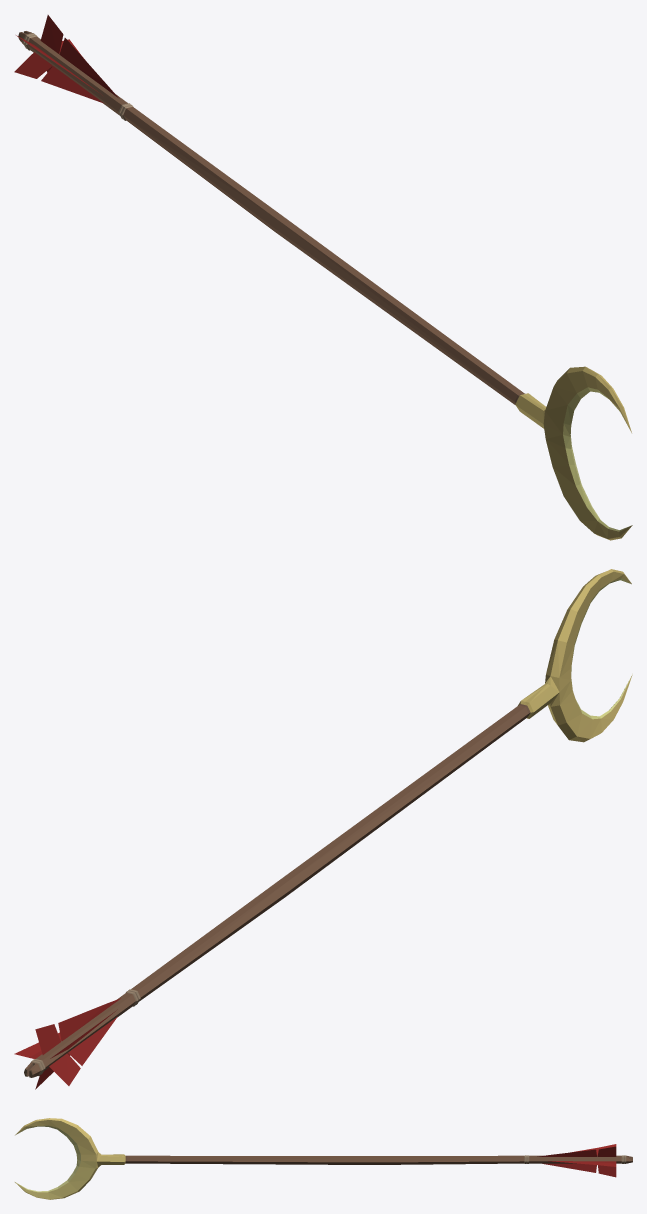
The model's file is moonShapedGoldTipArrow.glb.
3 renders of one model, top to bottom at view 1: azimuth 30°, elevation 25°; view 2: azimuth 150°, elevation 25°; view 3: azimuth 270°, elevation 25°, orthographic. The views are drawn at different scales.
Parts seen in each view (by area): view 1: moonShapedGoldTipArrow; view 2: moonShapedGoldTipArrow; view 3: moonShapedGoldTipArrow.
Boxes of the visible parts, bbox=[...] form: moonShapedGoldTipArrow: bbox=[14, 15, 632, 540]; moonShapedGoldTipArrow: bbox=[14, 569, 632, 1089]; moonShapedGoldTipArrow: bbox=[15, 1118, 632, 1199].
Bounding box in the file's own units: 0.0568 × 0.1578 × 1.08.
